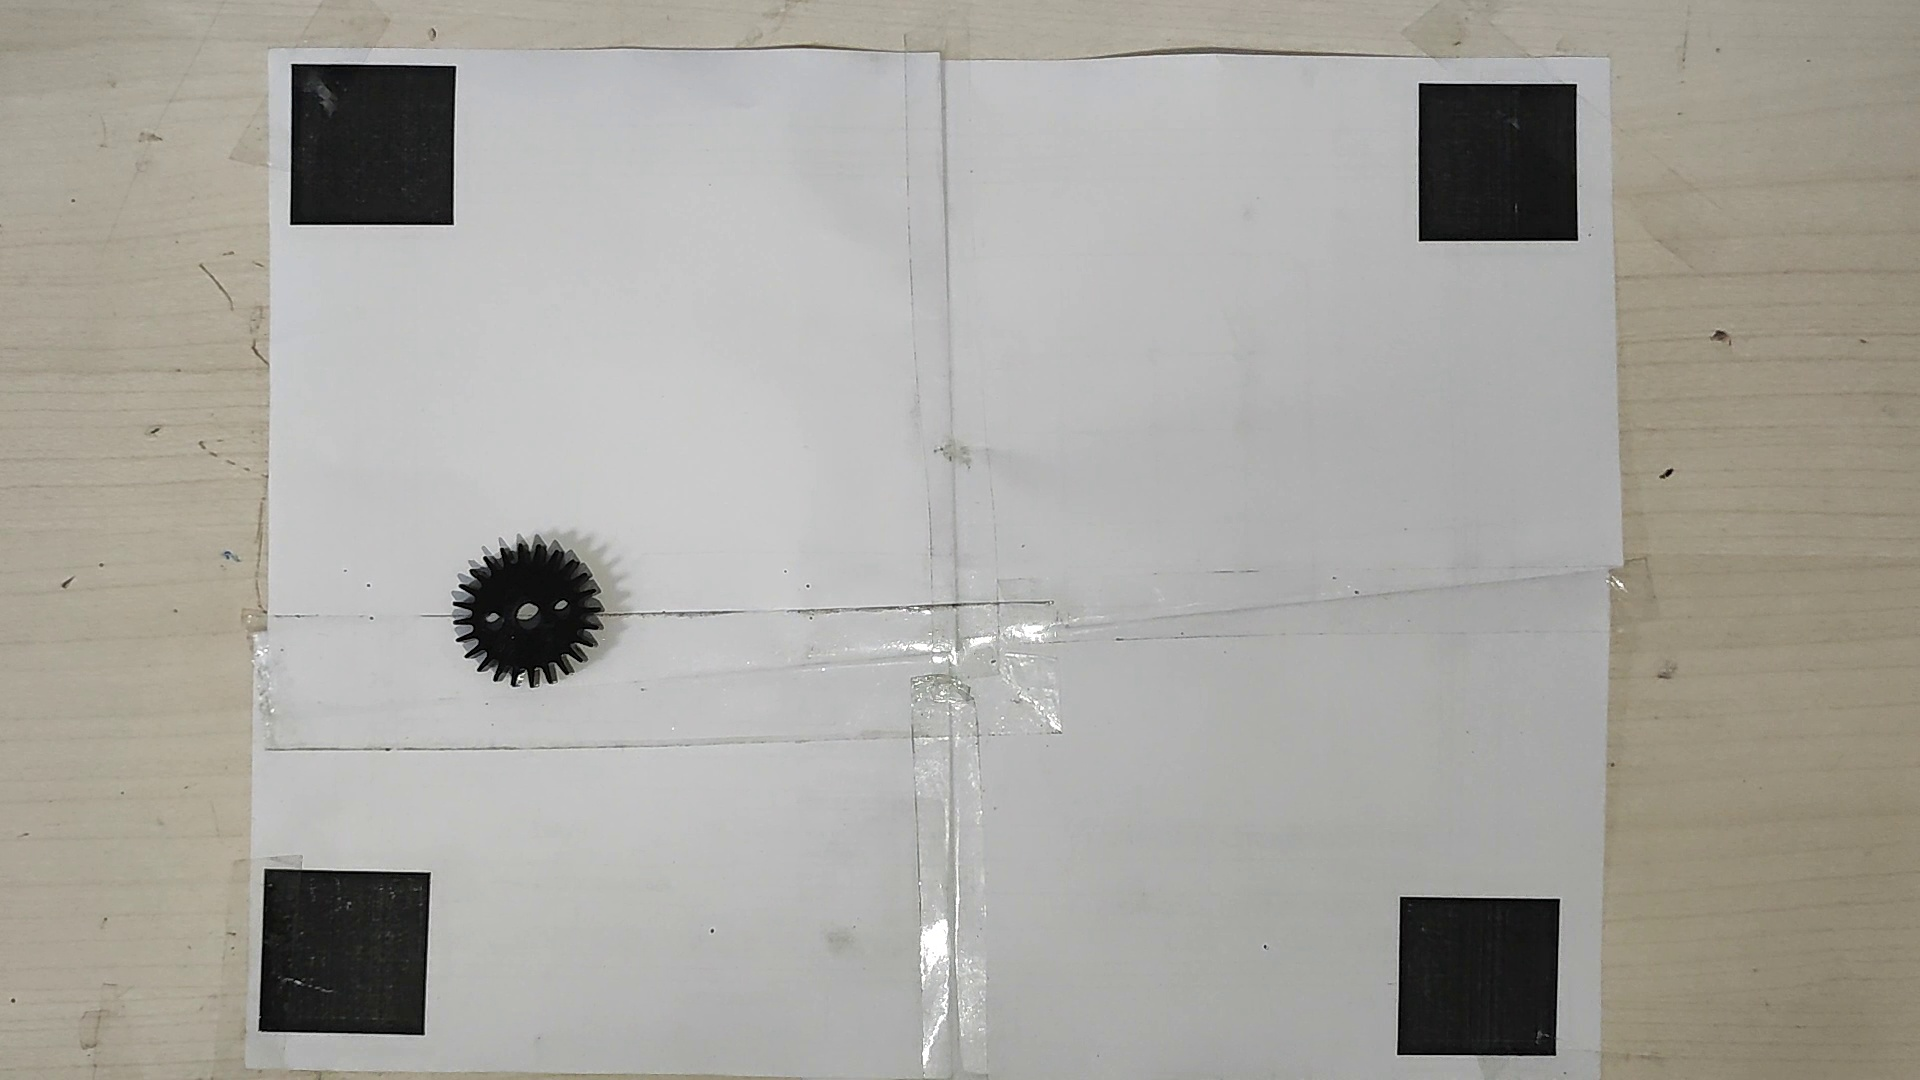Gear: (448, 535, 612, 692)
